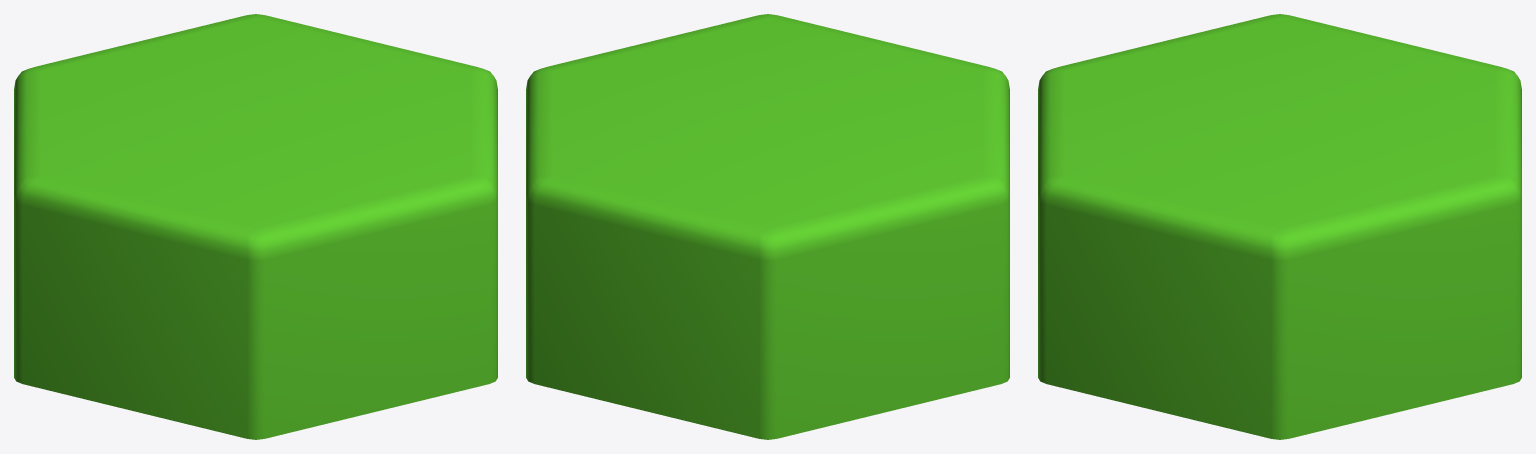
The model's file is Tile_Green_Ground.fbx.
3 views of the same model, side by side, from view 1: azimuth 30°, elevation 25°; view 2: azimuth 150°, elevation 25°; view 3: azimuth 270°, elevation 25° (orthographic).
Parts seen in each view (by area): view 1: Tile_Green_Ground; view 2: Tile_Green_Ground; view 3: Tile_Green_Ground.
Boxes of the visible parts, left/top/right/bottom form: Tile_Green_Ground: left=14, top=14, right=497, bottom=439; Tile_Green_Ground: left=526, top=14, right=1009, bottom=439; Tile_Green_Ground: left=1038, top=14, right=1521, bottom=439.
Bounding box in the file's own units: 9302 × 3698 × 8129.
